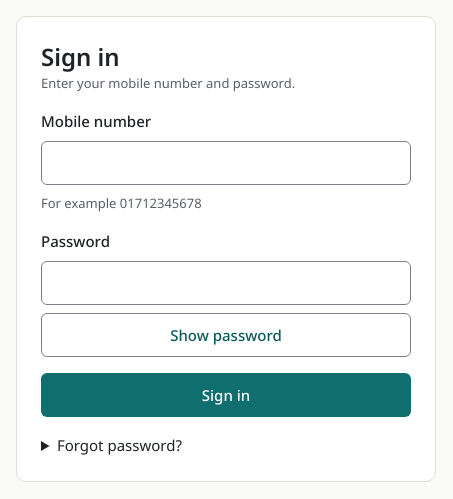
Scenario: LoginPage › asks for a code when the device is unknown
The image size is (453, 499).
Type "+8801712345678" into the field labelled "Mobile number". click: (226, 163)
box: [41,141,411,185]
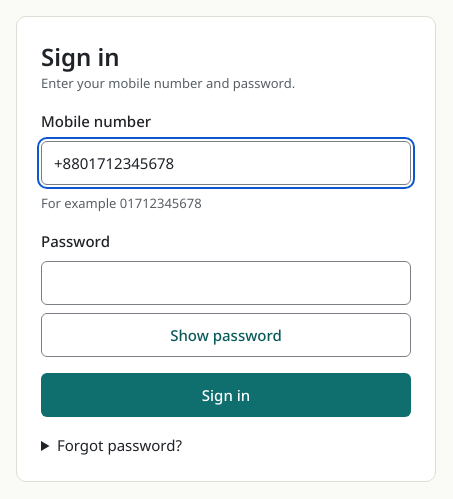
Type "correct-horse-battery" into the password field labelled "Password". click: (226, 283)
box: [41,261,411,305]
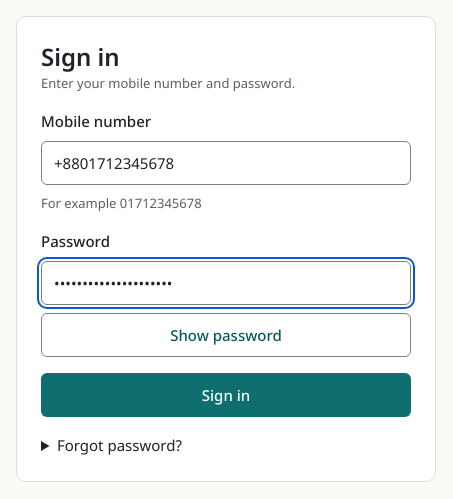
Click the button "Sign in". click: (226, 395)
box: [41,373,411,417]
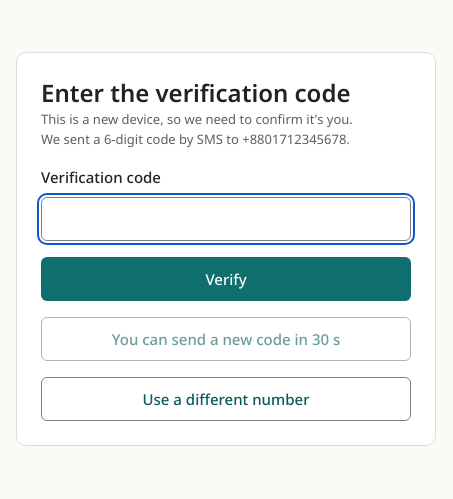
expect the heading "Enter the verification code" is shown: met, box [41,76,350,109]
